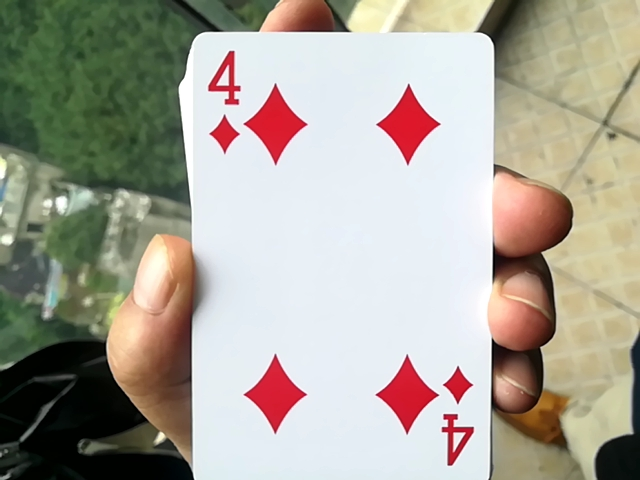fk 4: (162, 14, 499, 475)
